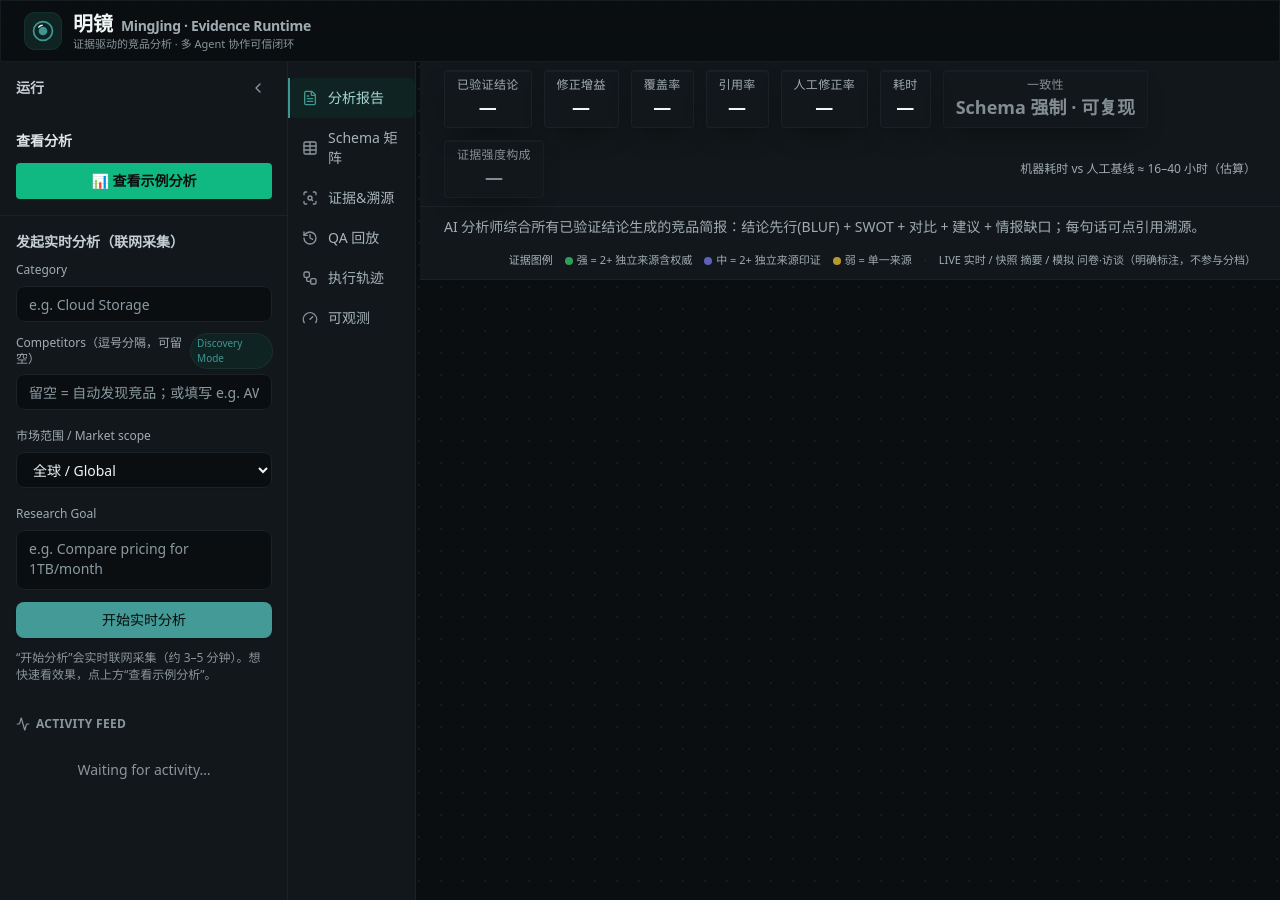
Test: App nav › clicking 可观测 shows the Observability empty-state
Click the button with test id "nav-observability" at [352, 318], box [288,298,415,338]
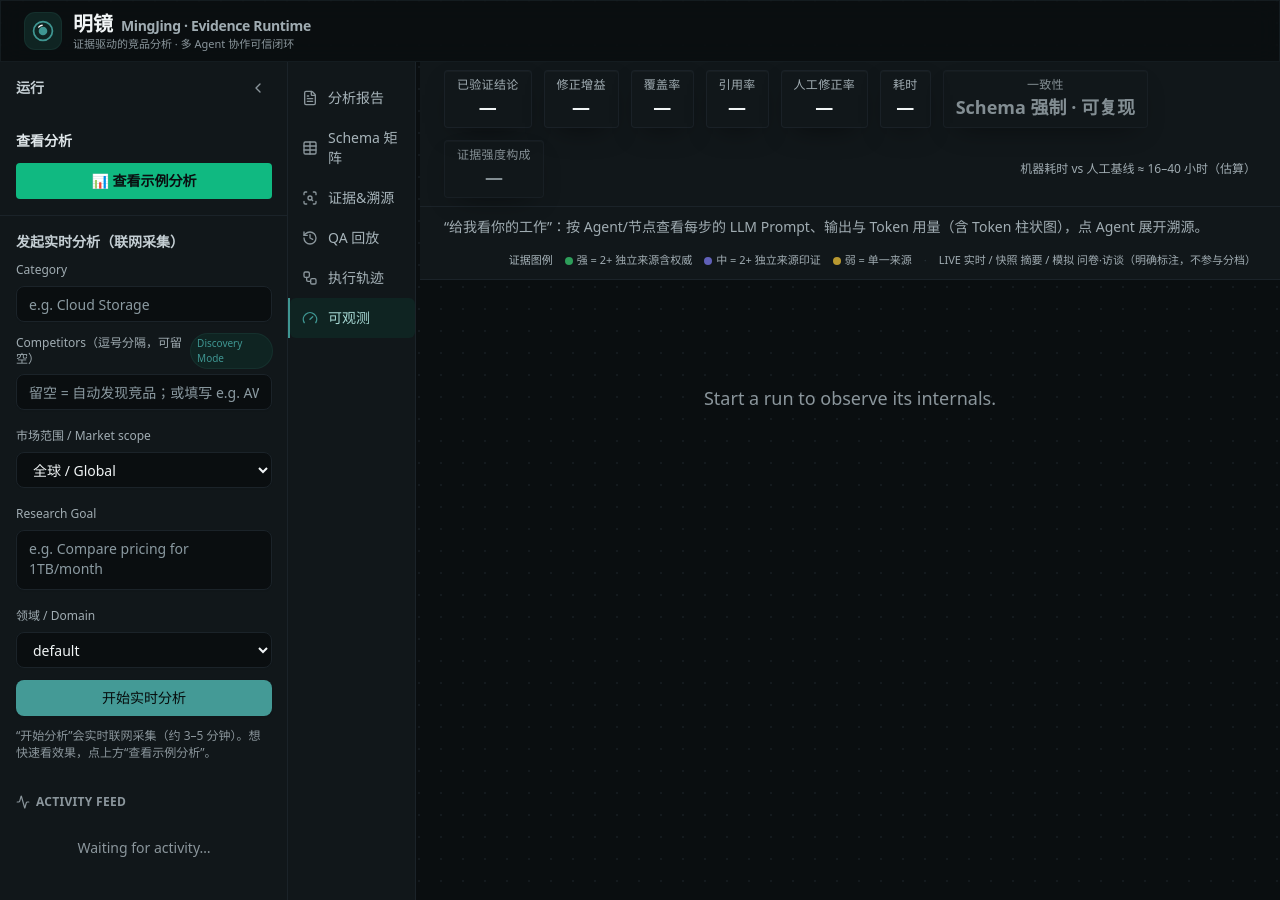
Expected: the text "Start a run to observe its internals." is shown, [704,386,996,410]
